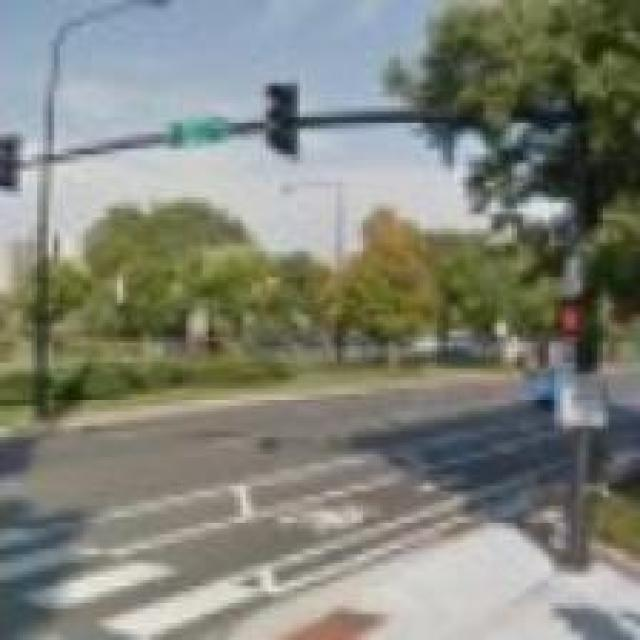walk-crossing: (0, 534, 251, 637)
